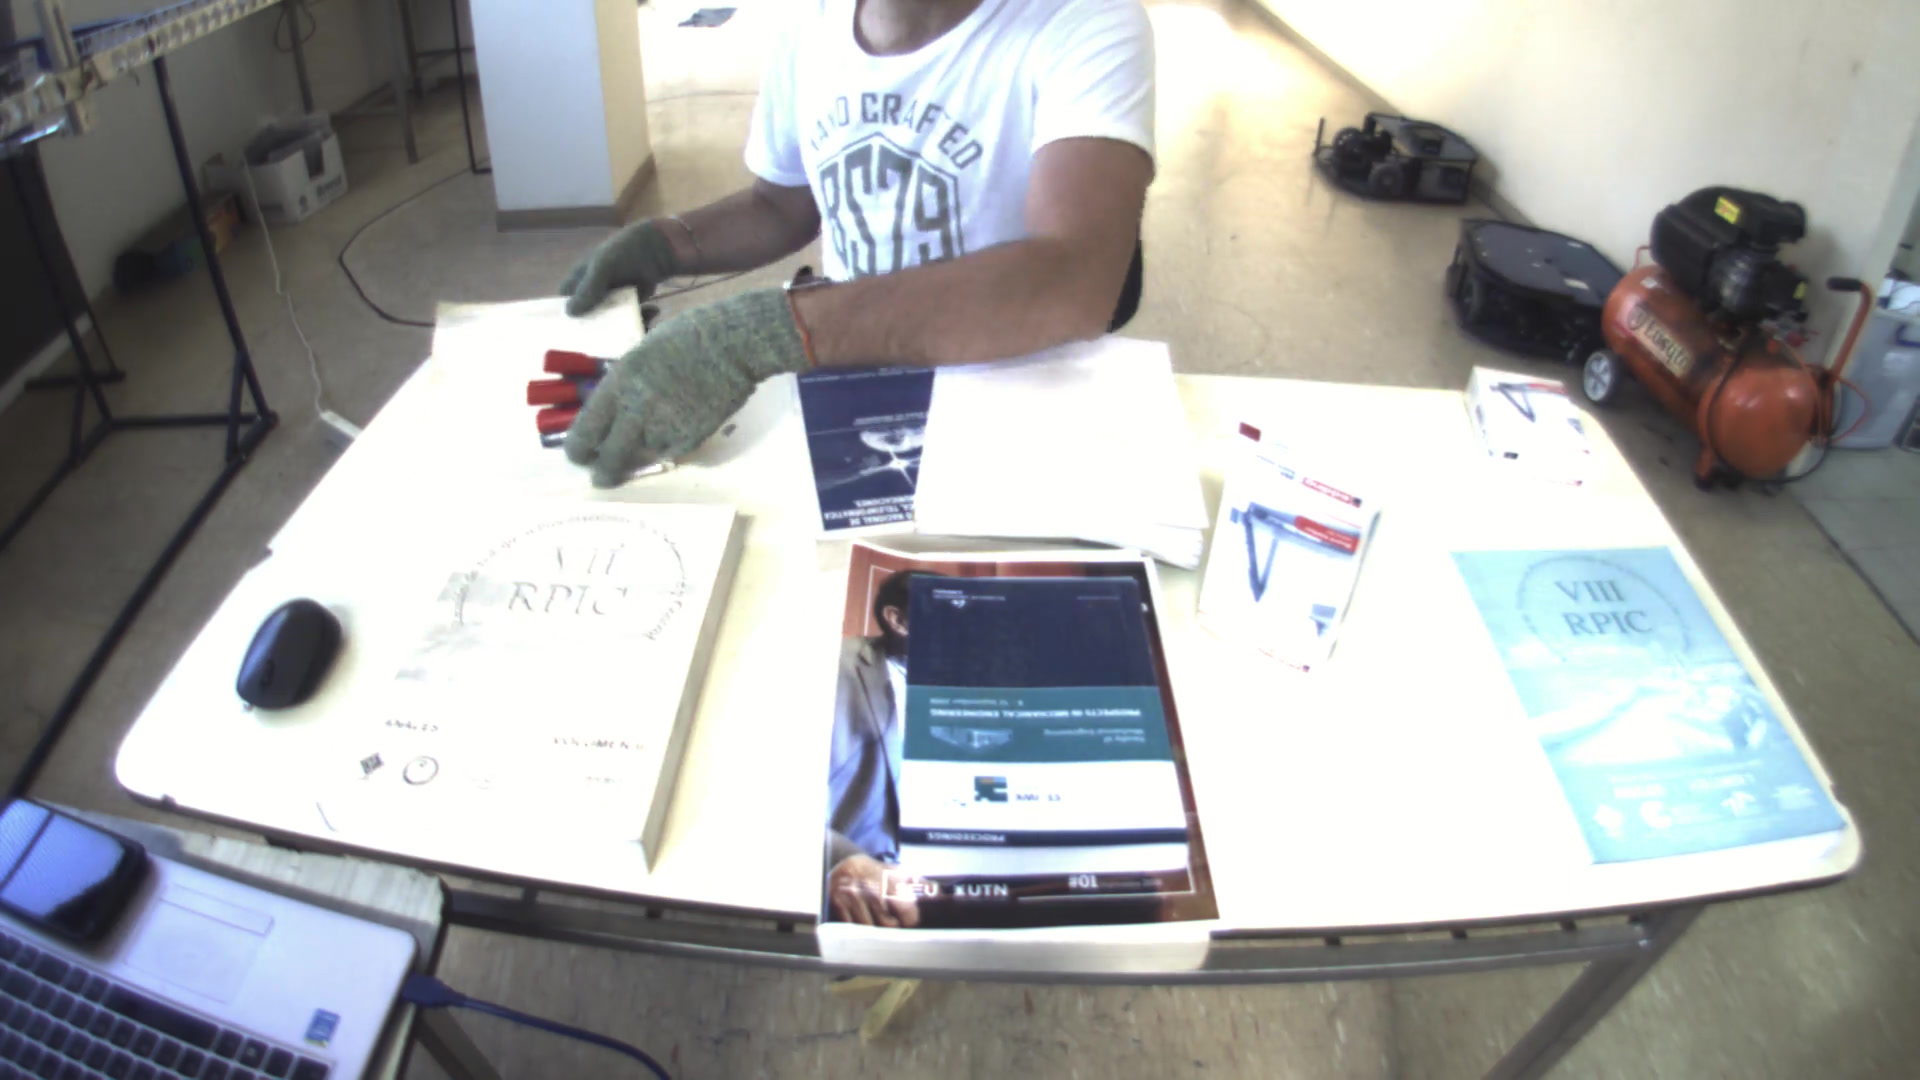hand: (521, 302, 786, 489), (541, 207, 683, 310)
